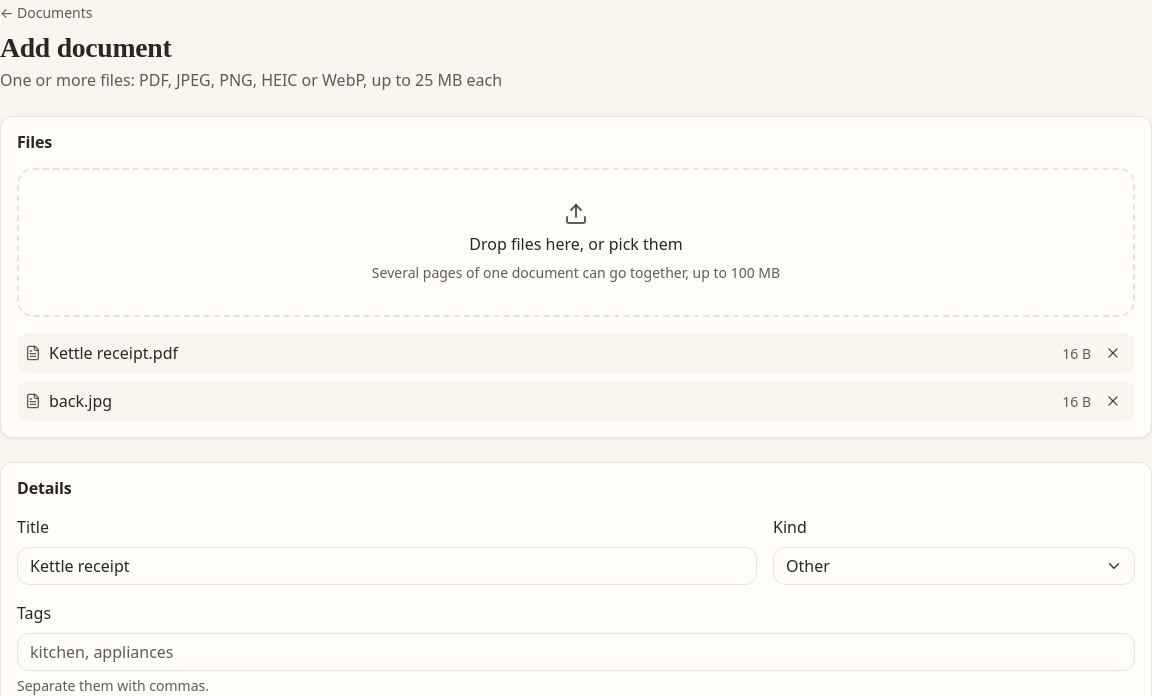
it: DocumentUploadComponent › takes the title from the first file, and lists the chosen files
Step 1. Click the button named "Remove back.jpg" → [1113, 401], box [1099,387,1127,415]
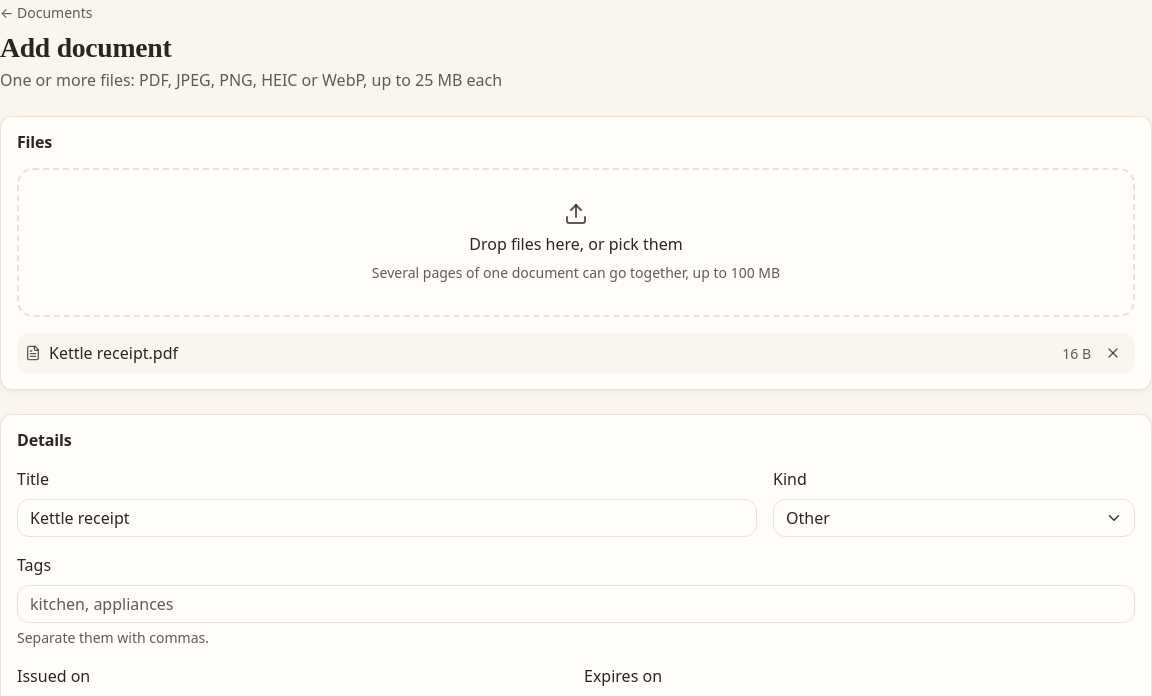
Check: the number of list items is 1, box [17,333,1135,373]
